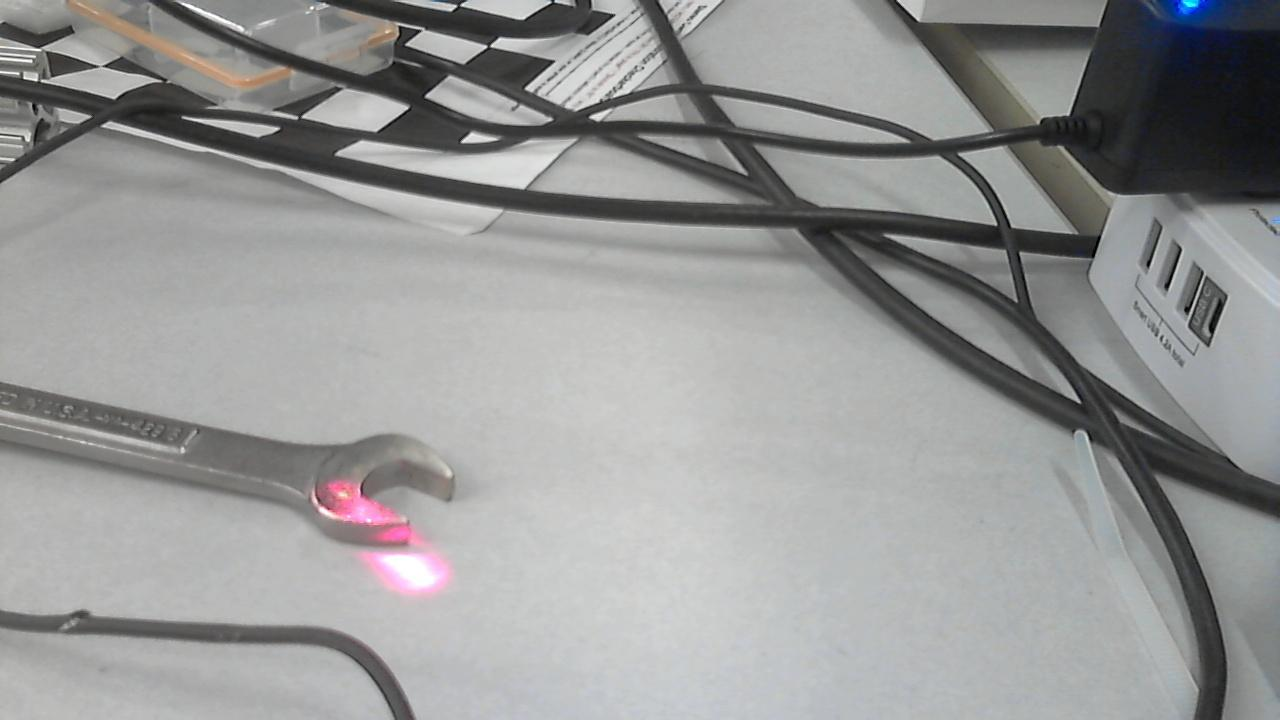Object combination wrench - Material metal- Pdfname faefasdffdaea: (319, 471, 409, 543)
